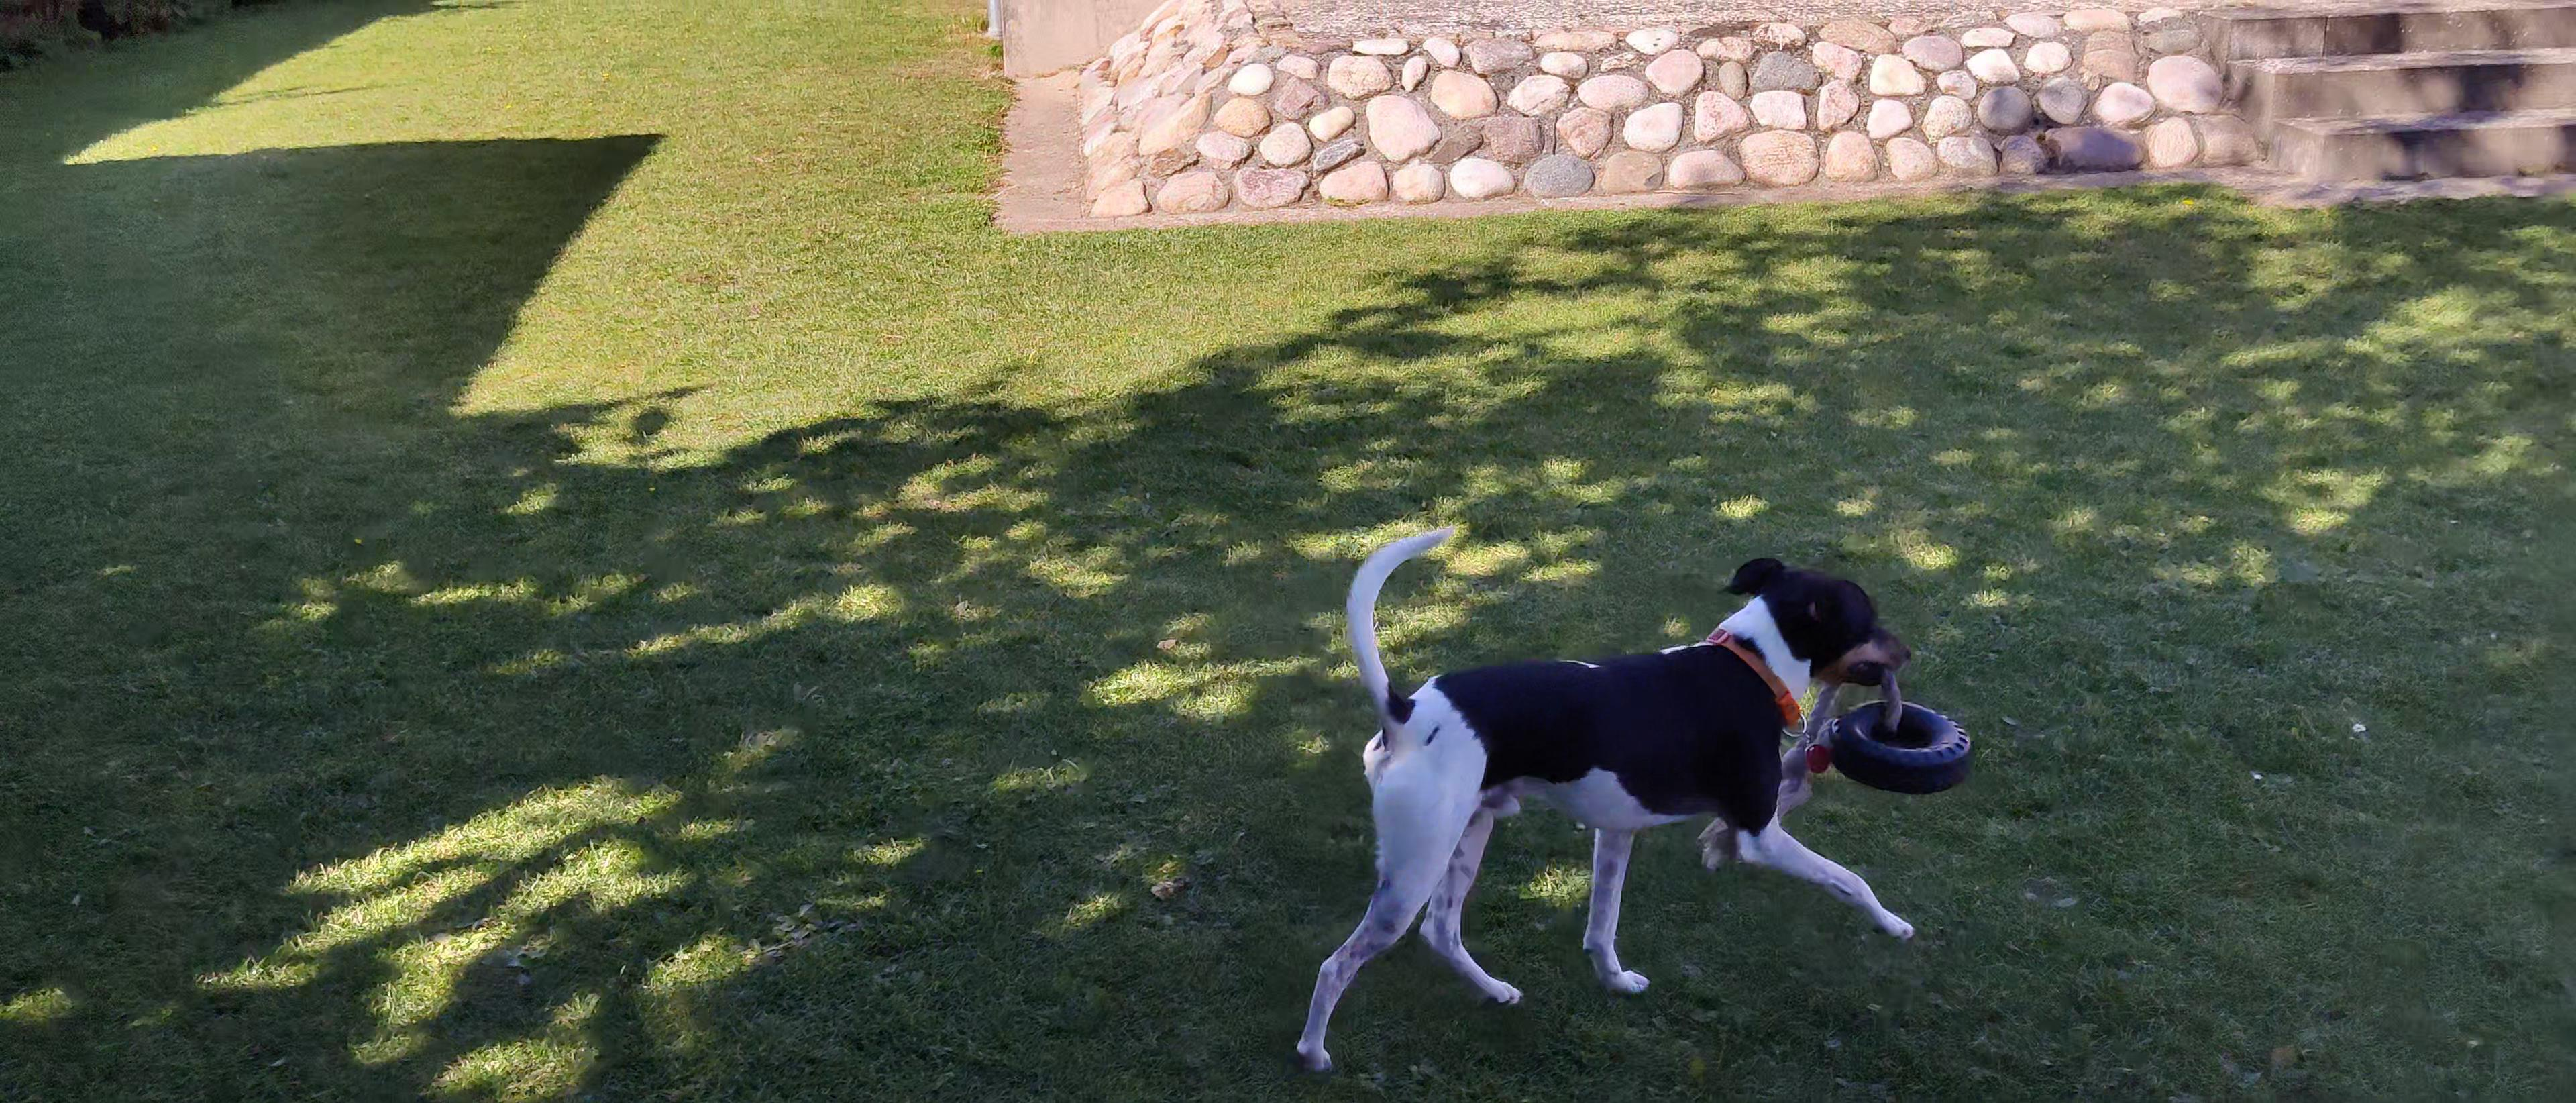Dog: (1273, 513, 1945, 1080)
